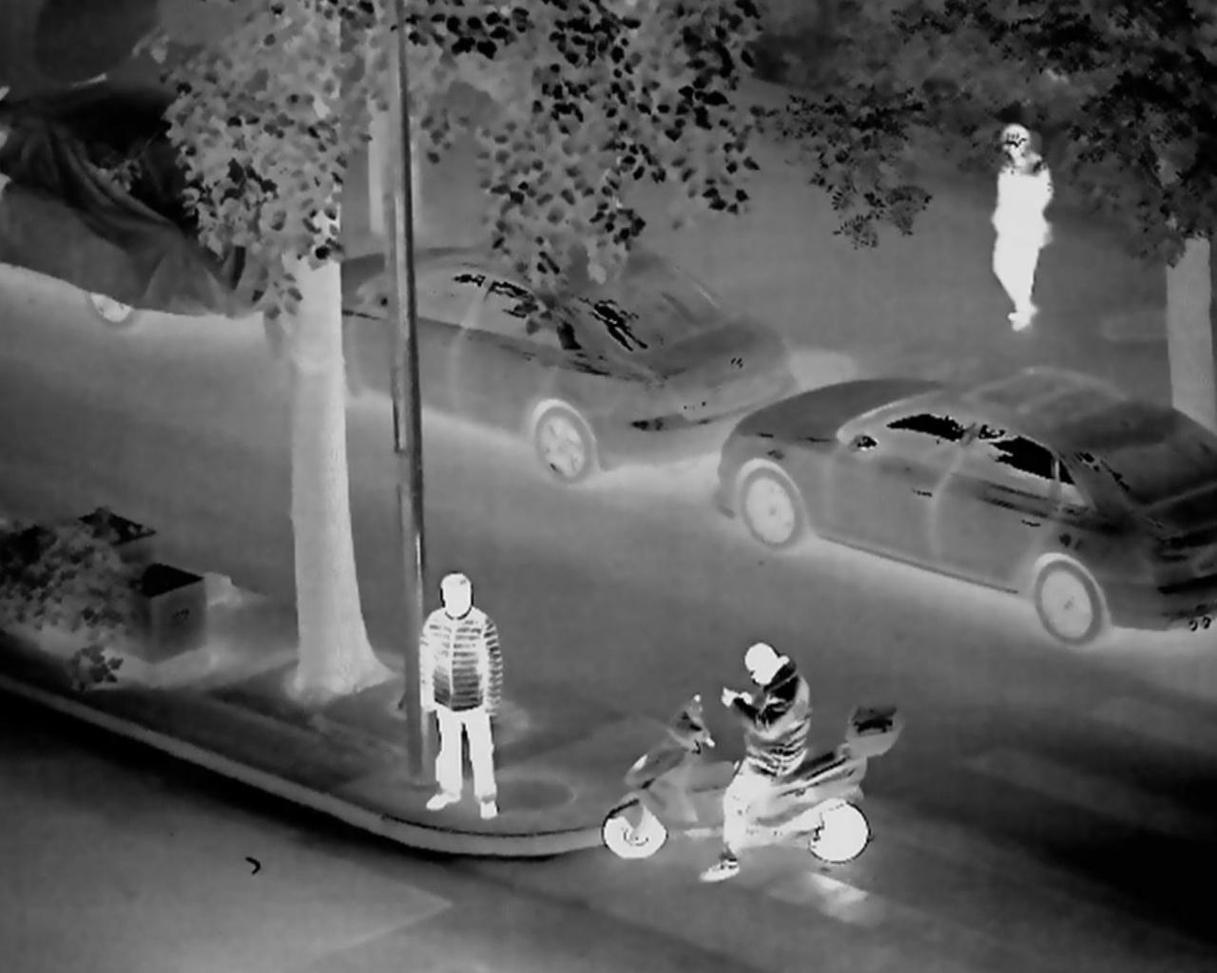person: (699, 610, 825, 892), (407, 566, 503, 820), (986, 123, 1061, 329)
